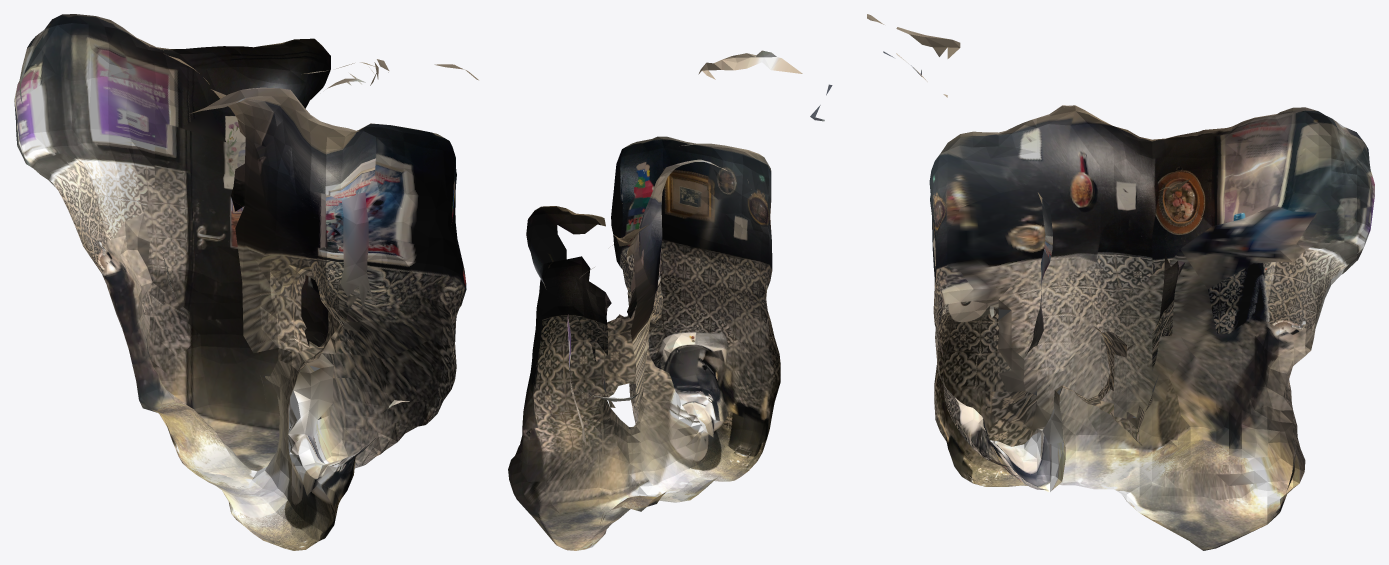
Rendered from o_bar.glb.
The picture shows the model from 3 angles, left to right: view 1: azimuth 30°, elevation 25°; view 2: azimuth 150°, elevation 25°; view 3: azimuth 270°, elevation 25°; orthographic projection. The views are drawn at different scales.
Visible parts, largest first — view 1: mesh; view 2: mesh; view 3: mesh.
Boxes of the visible parts, bbox=[...] form: mesh: bbox=[14, 14, 478, 550]; mesh: bbox=[508, 50, 832, 550]; mesh: bbox=[867, 14, 1374, 550].
Bounding box in the file's own units: 1.58 × 3.22 × 3.18.
Materials: 1 (1 with a texture image).
